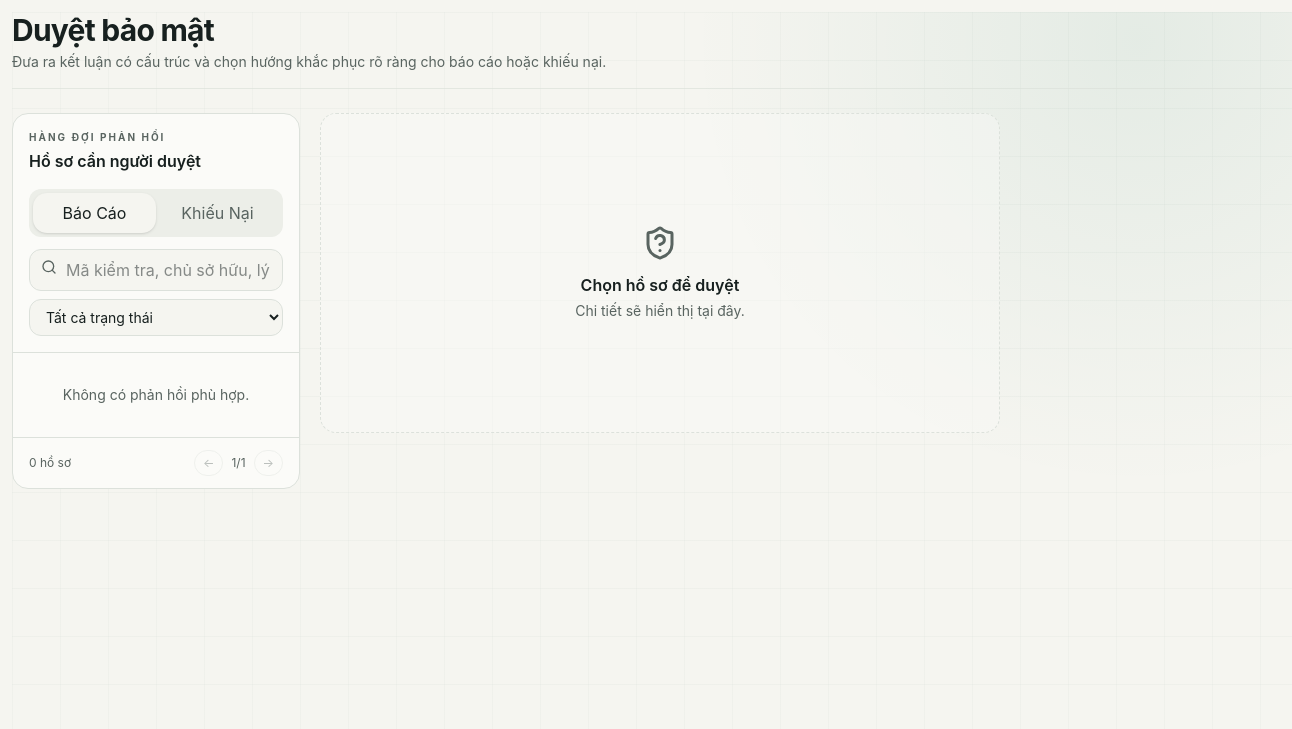
Scenario: FE7 Security Review Room › uses the same loaded case boundary for an appeal decision
The width and height of the screenshot is (1292, 729).
Click the tab "Khiếu nại".
click(218, 213)  # box x1=156 y1=193 x2=279 y2=233
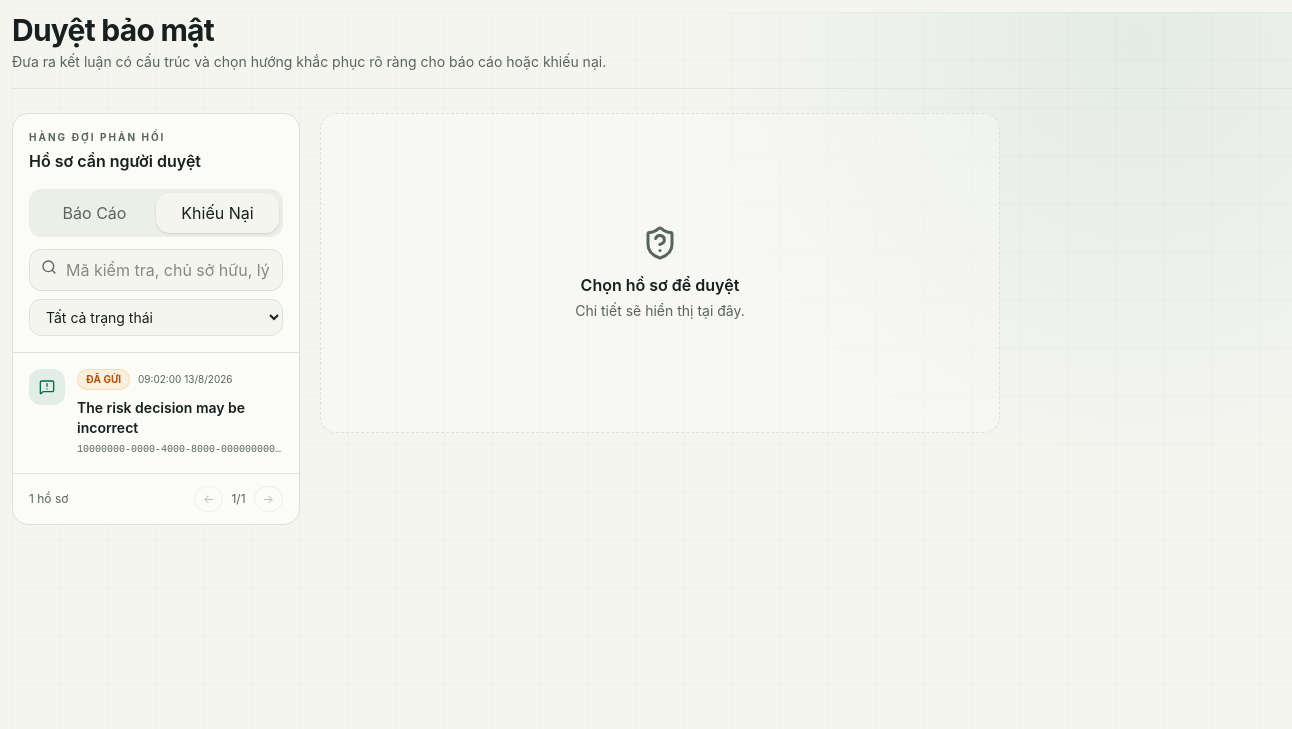
Click the button "The risk decision may be incorrect".
click(156, 413)  # box x1=13 y1=353 x2=299 y2=473
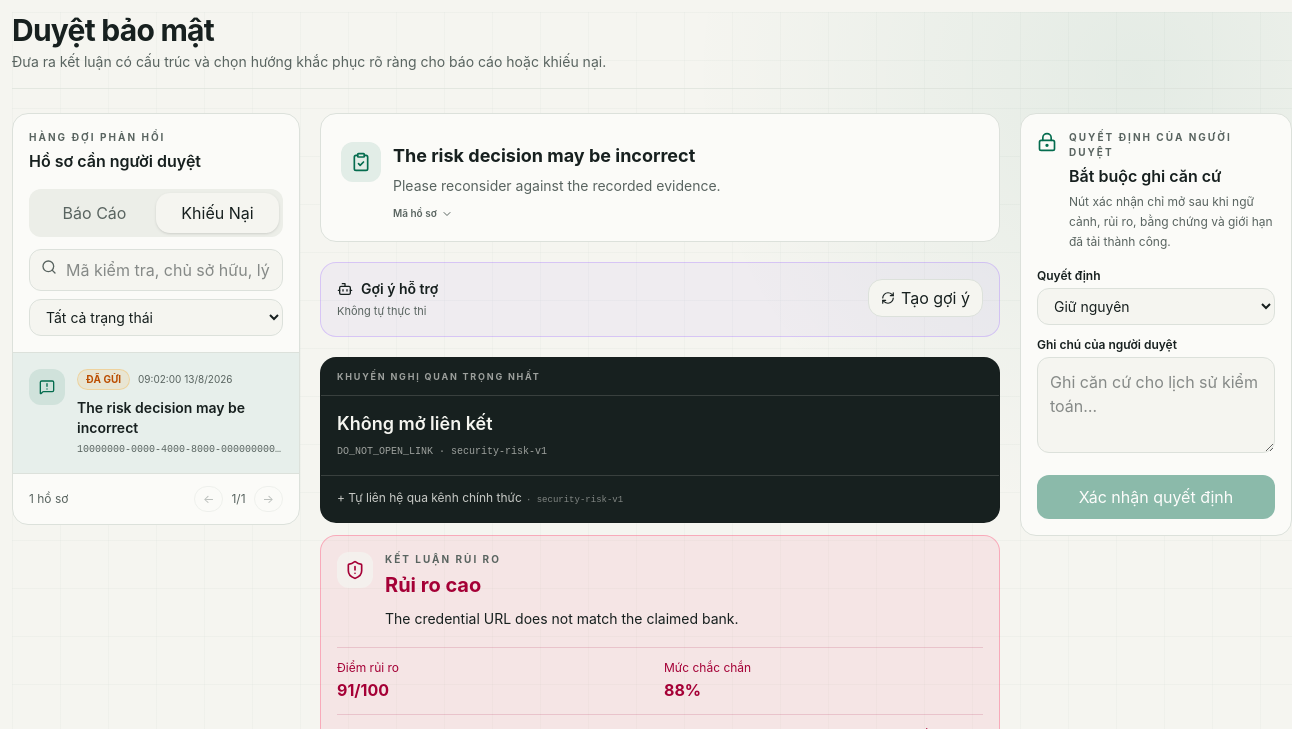
Check: the heading "Rủi ro cao" is shown, box x1=385 y1=573 x2=481 y2=597
Select "Đảo quyết định" in the dropdown labelled "Quyết định" at [1156, 306], box x1=1037 y1=288 x2=1275 y2=325
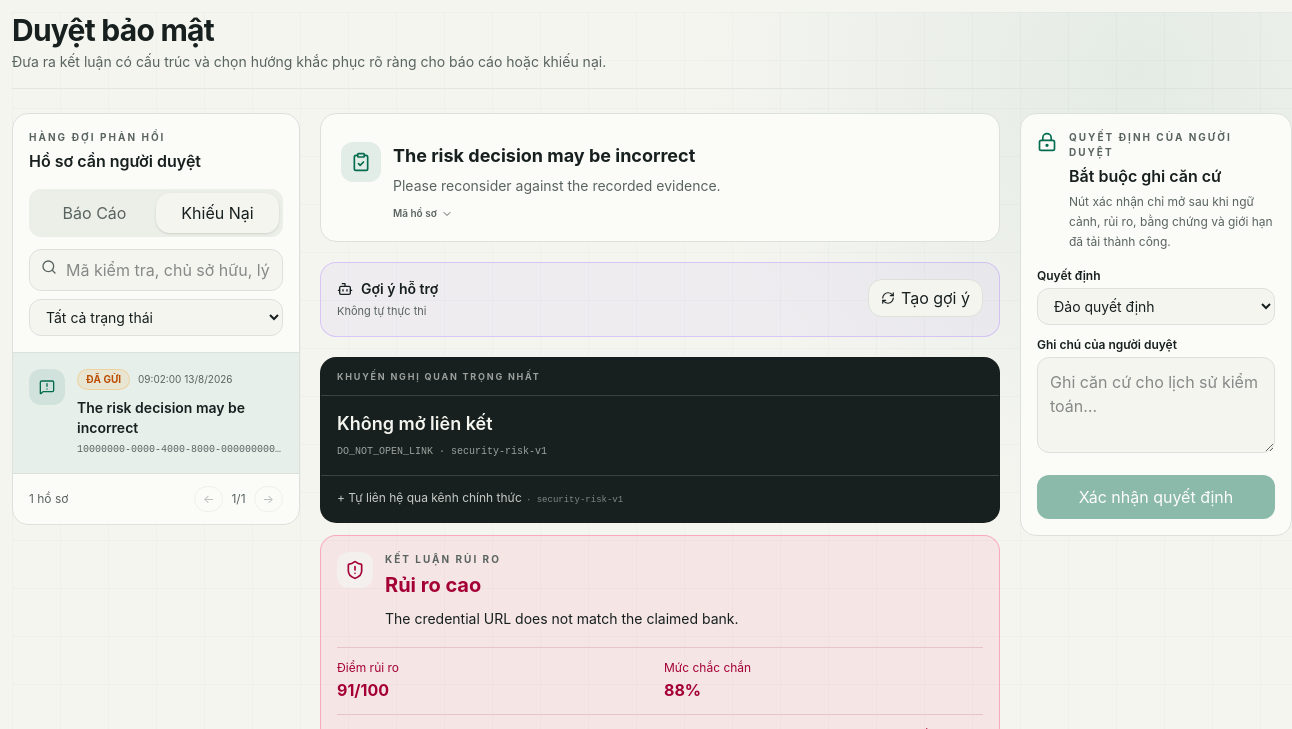
Type "Evidence warrants overturn" into the text box labelled "Ghi chú của người duyệt".
click(1156, 405); type("Evidence warrants overturn")  # box x1=1037 y1=357 x2=1275 y2=453
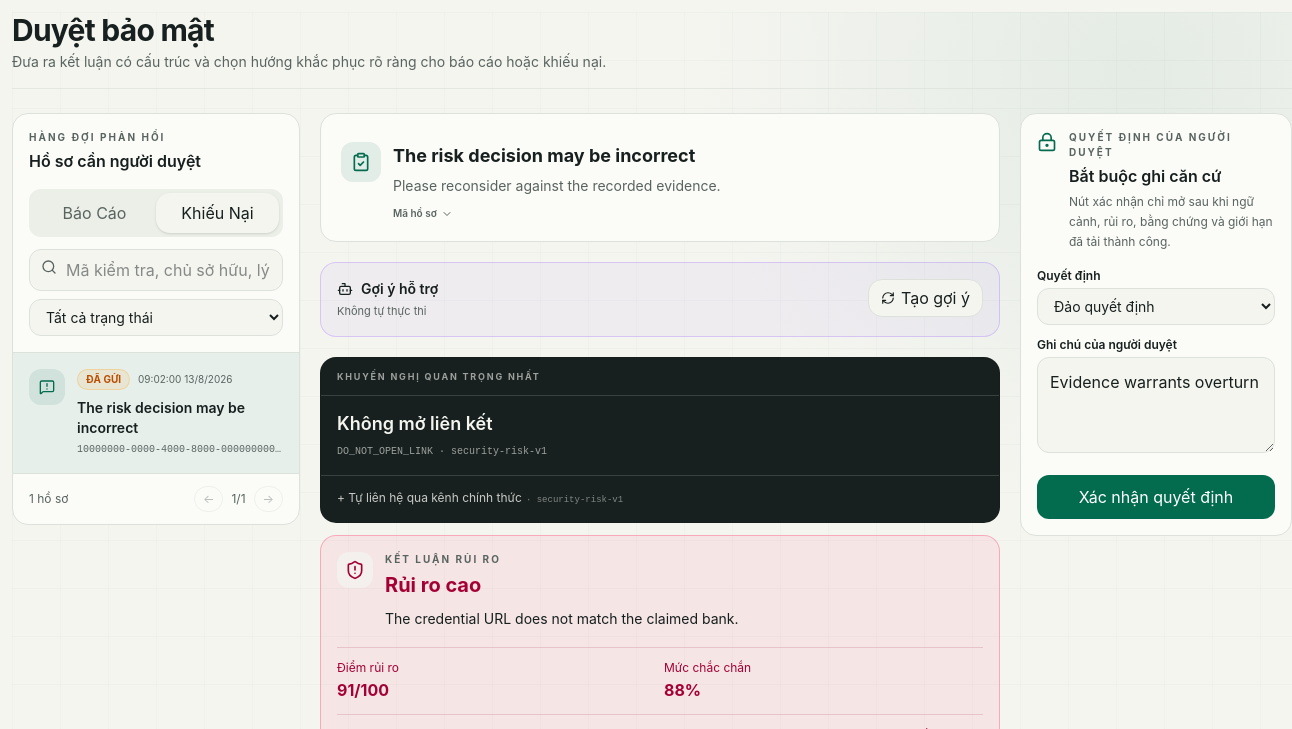
Click the button "Xác nhận quyết định".
click(1156, 497)  # box x1=1037 y1=475 x2=1275 y2=519
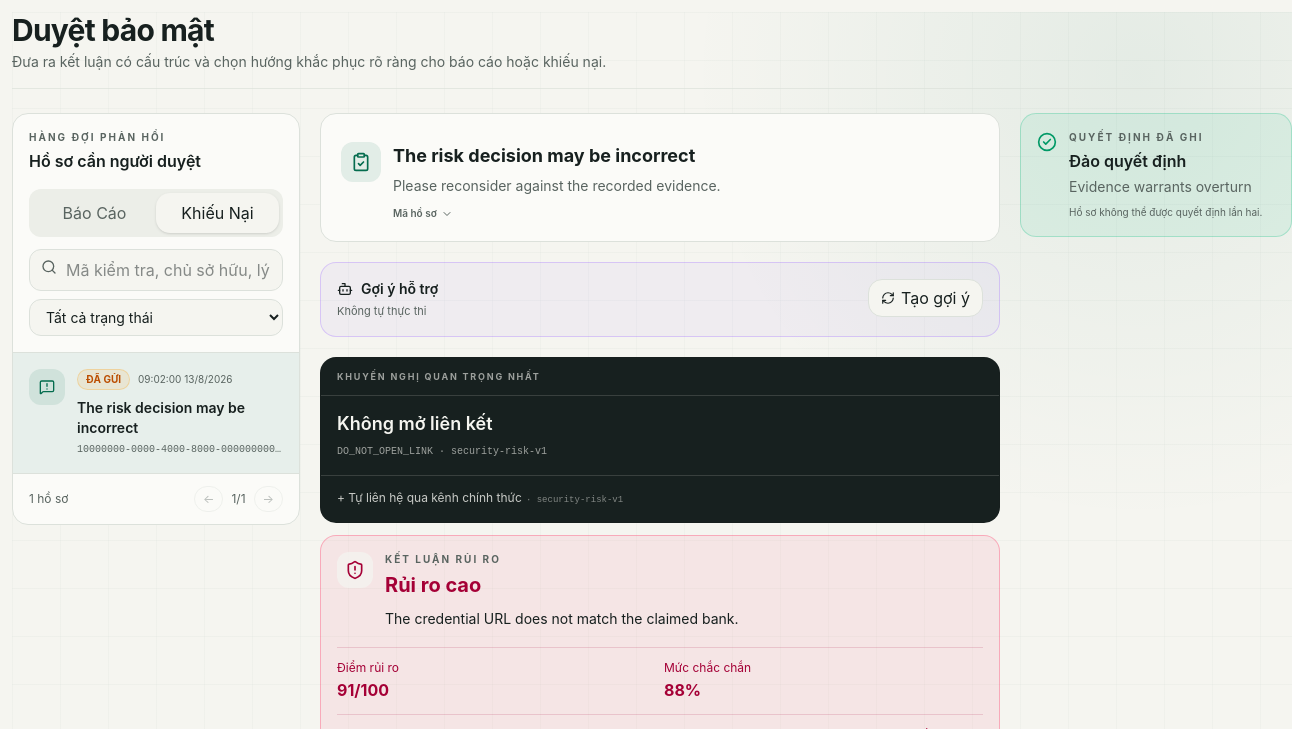
Check: the text "Quyết định đã ghi" is shown, box x1=1069 y1=131 x2=1204 y2=143
